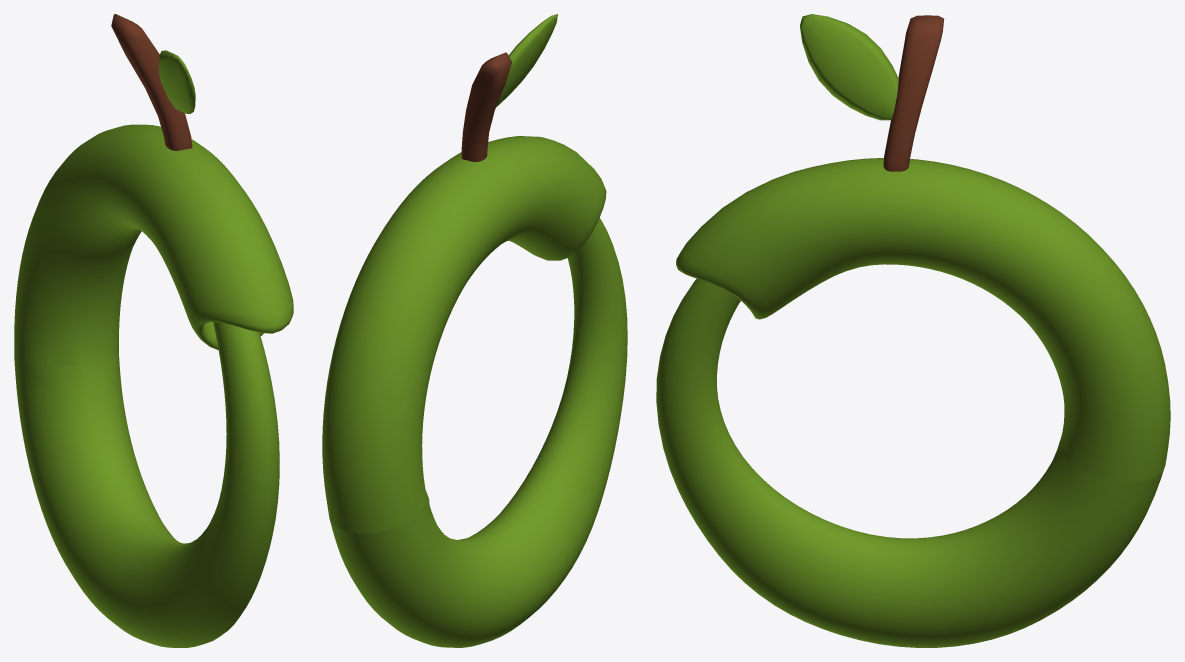
The model's file is apple_ouroboros.fbx.
The picture shows the model from 3 angles, left to right: view 1: azimuth 30°, elevation 25°; view 2: azimuth 150°, elevation 25°; view 3: azimuth 270°, elevation 25°; orthographic projection. The views are drawn at different scales.
Parts seen in each view (by area): view 1: Torus, apple_standart.001; view 2: Torus, apple_standart.001; view 3: Torus, apple_standart.001.
Boxes of the visible parts, box(x1,y1,x2,y2) form: Torus: box(14, 124, 293, 647); apple_standart.001: box(111, 14, 195, 150); Torus: box(322, 136, 627, 647); apple_standart.001: box(461, 14, 557, 161); Torus: box(656, 158, 1170, 647); apple_standart.001: box(800, 14, 944, 171).
Size of the model in its own units: 15.28 by 75.9 by 56.83.
